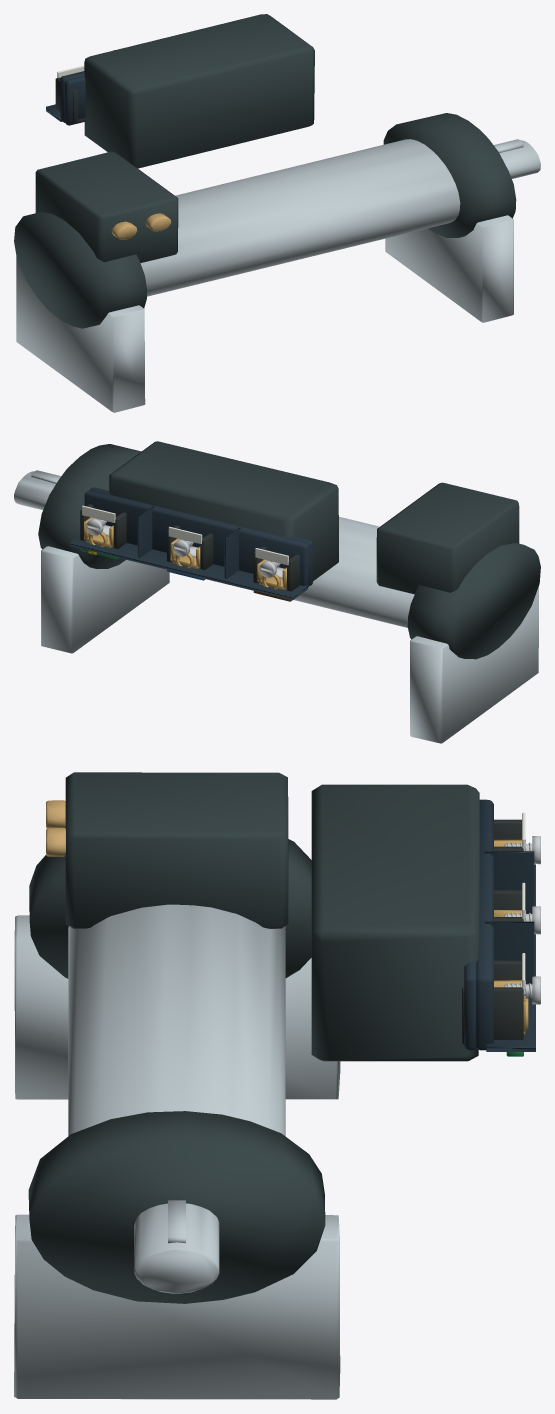
File: motor_shutter.low.glb
3 views of the same model, one above another, from view 1: azimuth 30°, elevation 25°; view 2: azimuth 150°, elevation 25°; view 3: azimuth 270°, elevation 25° (orthographic). The views are drawn at different scales.
Parts seen in each view (by area): view 1: part:body · Machinery thermoplastic, Tubular shutter motor, part:mounting · Machined steel, part:terminals · Original a463fd81, motion:shutter-shaft · Machined steel, part:mounting · Machinery brass; view 2: part:body · Machinery thermoplastic, part:mounting · Machined steel, part:terminals · Original a463fd81, Tubular shutter motor, motion:shutter-shaft · Machined steel, detail:terminal-clamp:PE · Detail moulded engineering polyme, detail:terminal-clamp:L · Detail moulded engineering polymer, detail:terminal-clamp:N · Detail moulded engineering polymer, detail:terminal-clamp:N · Detail machined brass, detail:terminal-clamp:PE · Detail machined brass, detail:terminal-clamp:L · Detail machined brass; view 3: part:body · Machinery thermoplastic, part:mounting · Machined steel, Tubular shutter motor, part:terminals · Original a463fd81, motion:shutter-shaft · Machined steel, detail:terminal-clamp:PE · Detail moulded engineering polyme, part:mounting · Machinery brass, detail:terminal-clamp:L · Detail moulded engineering polymer.
Boxes of the visible parts, <box> form: part:body · Machinery thermoplastic: <box>14,14,516,328</box>; Tubular shutter motor: <box>140,139,460,296</box>; part:mounting · Machined steel: <box>16,215,513,412</box>; part:terminals · Original a463fd81: <box>46,50,113,125</box>; motion:shutter-shaft · Machined steel: <box>493,139,540,178</box>; part:mounting · Machinery brass: <box>111,213,171,239</box>; part:body · Machinery thermoplastic: <box>38,441,540,659</box>; part:mounting · Machined steel: <box>41,546,538,743</box>; part:terminals · Original a463fd81: <box>70,487,312,600</box>; Tubular shutter motor: <box>294,516,414,627</box>; motion:shutter-shaft · Machined steel: <box>14,470,61,509</box>; detail:terminal-clamp:PE · Detail moulded engineering polyme: <box>80,504,126,549</box>; detail:terminal-clamp:L · Detail moulded engineering polymer: <box>253,546,299,591</box>; detail:terminal-clamp:N · Detail moulded engineering polymer: <box>167,525,213,570</box>; detail:terminal-clamp:N · Detail machined brass: <box>170,538,200,568</box>; detail:terminal-clamp:PE · Detail machined brass: <box>84,517,113,547</box>; detail:terminal-clamp:L · Detail machined brass: <box>257,559,286,589</box>; part:body · Machinery thermoplastic: <box>28,772,479,1303</box>; part:mounting · Machined steel: <box>14,915,340,1399</box>; Tubular shutter motor: <box>68,904,285,1136</box>; part:terminals · Original a463fd81: <box>464,799,535,1051</box>; motion:shutter-shaft · Machined steel: <box>134,1200,219,1293</box>; detail:terminal-clamp:PE · Detail moulded engineering polyme: <box>462,960,524,1044</box>; part:mounting · Machinery brass: <box>46,800,65,856</box>; detail:terminal-clamp:L · Detail moulded engineering polymer: <box>494,819,523,851</box>.
Size of the model in its own units: 1.63 by 0.7635 by 0.9536.
